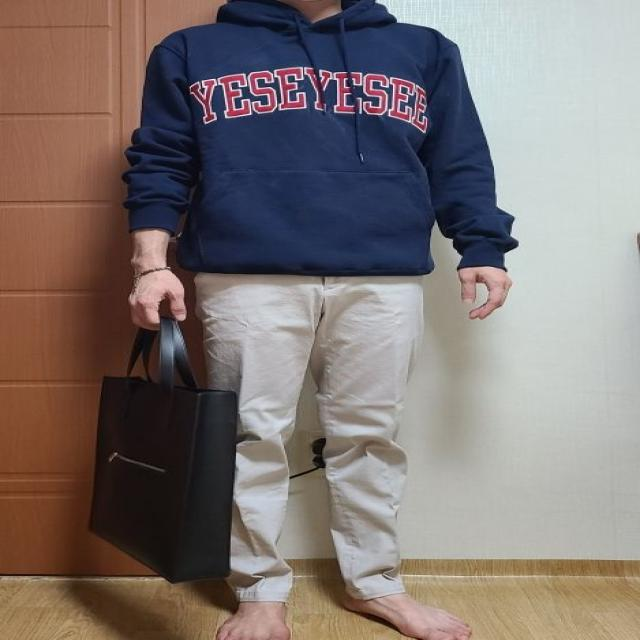cottonpants: (209, 271, 421, 601)
mtm: (123, 1, 514, 280)
